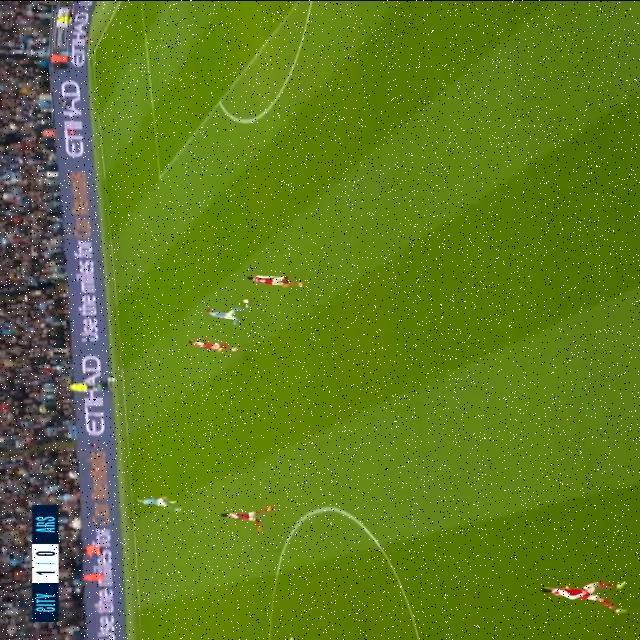ball: (230, 293, 275, 309)
player: (543, 558, 631, 609), (103, 486, 196, 512), (172, 307, 251, 337), (170, 334, 260, 357), (201, 507, 272, 527), (250, 267, 306, 285)
